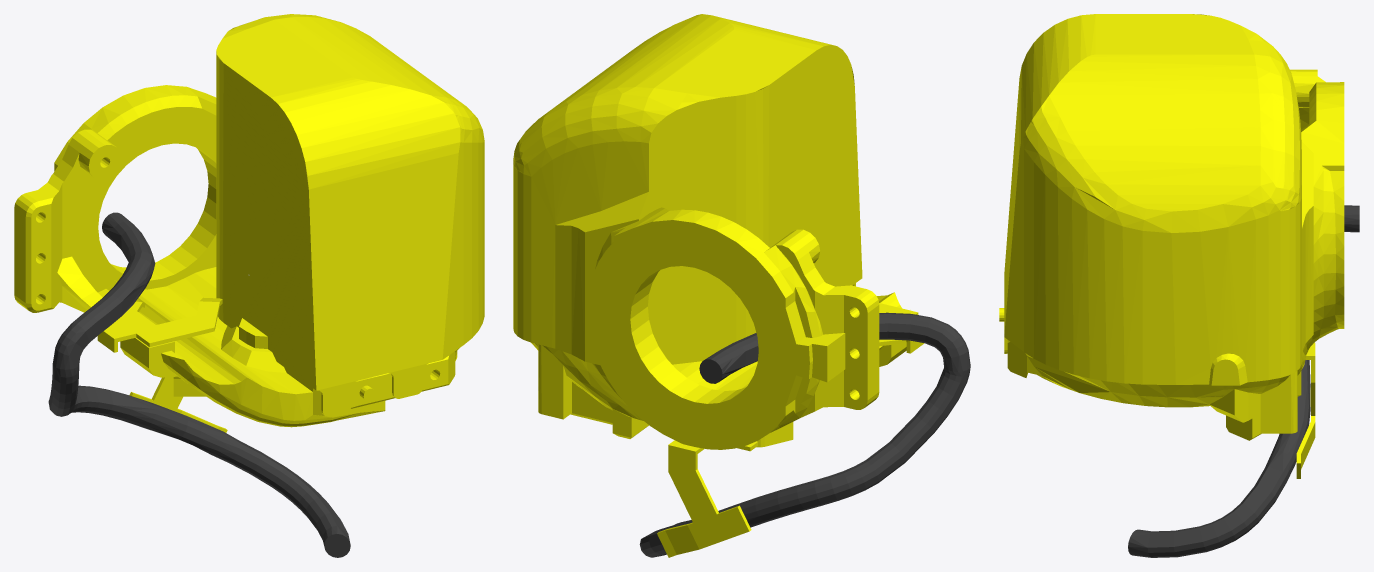
3 views of the same model, side by side, from view 1: azimuth 30°, elevation 25°; view 2: azimuth 150°, elevation 25°; view 3: azimuth 270°, elevation 25° (orthographic).
Visible parts, largest first — view 1: node; view 2: node; view 3: node.
Part boxes in pixels (x1,y1,x2,y2): node: (14, 14, 484, 557); node: (513, 14, 970, 557); node: (999, 14, 1359, 557).
Bounding box in the file's own units: 346 × 401 × 262.
